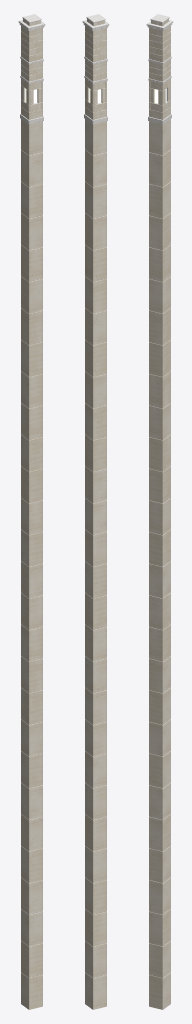
3 views of the same model, side by side, from view 1: azimuth 30°, elevation 25°; view 2: azimuth 210°, elevation 25°; view 3: azimuth 330°, elevation 25° (orthographic).
Visible parts, largest first — view 1: Mesh_arcade_pylon; view 2: Mesh_arcade_pylon; view 3: Mesh_arcade_pylon.
Boxes of the visible parts, left/top/right/bottom form: Mesh_arcade_pylon: left=18, top=14, right=45, bottom=1009; Mesh_arcade_pylon: left=82, top=14, right=109, bottom=1009; Mesh_arcade_pylon: left=146, top=14, right=173, bottom=1009.
Size of the model in its own units: 2.2 by 123 by 2.2.
1 material, 1 textured.
